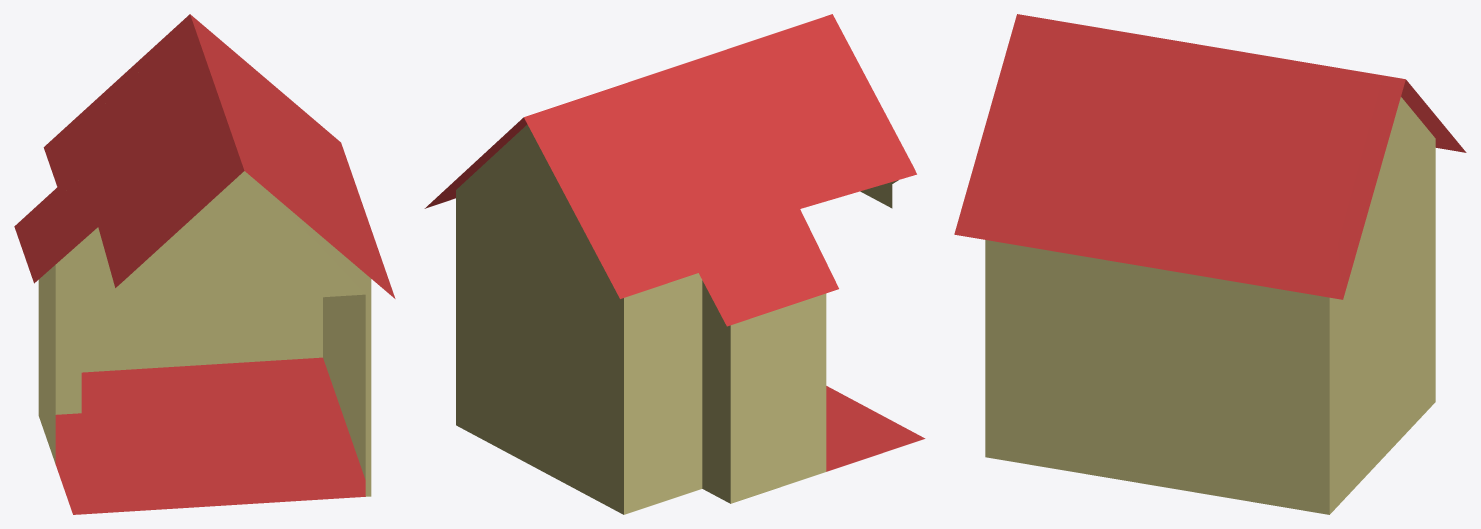
3 renders of one model, left to right at view 1: azimuth 30°, elevation 25°; view 2: azimuth 150°, elevation 25°; view 3: azimuth 270°, elevation 25°, orthographic. The views are drawn at different scales.
Bounding box in the file's own units: 15.02 × 16.04 × 13.19.
